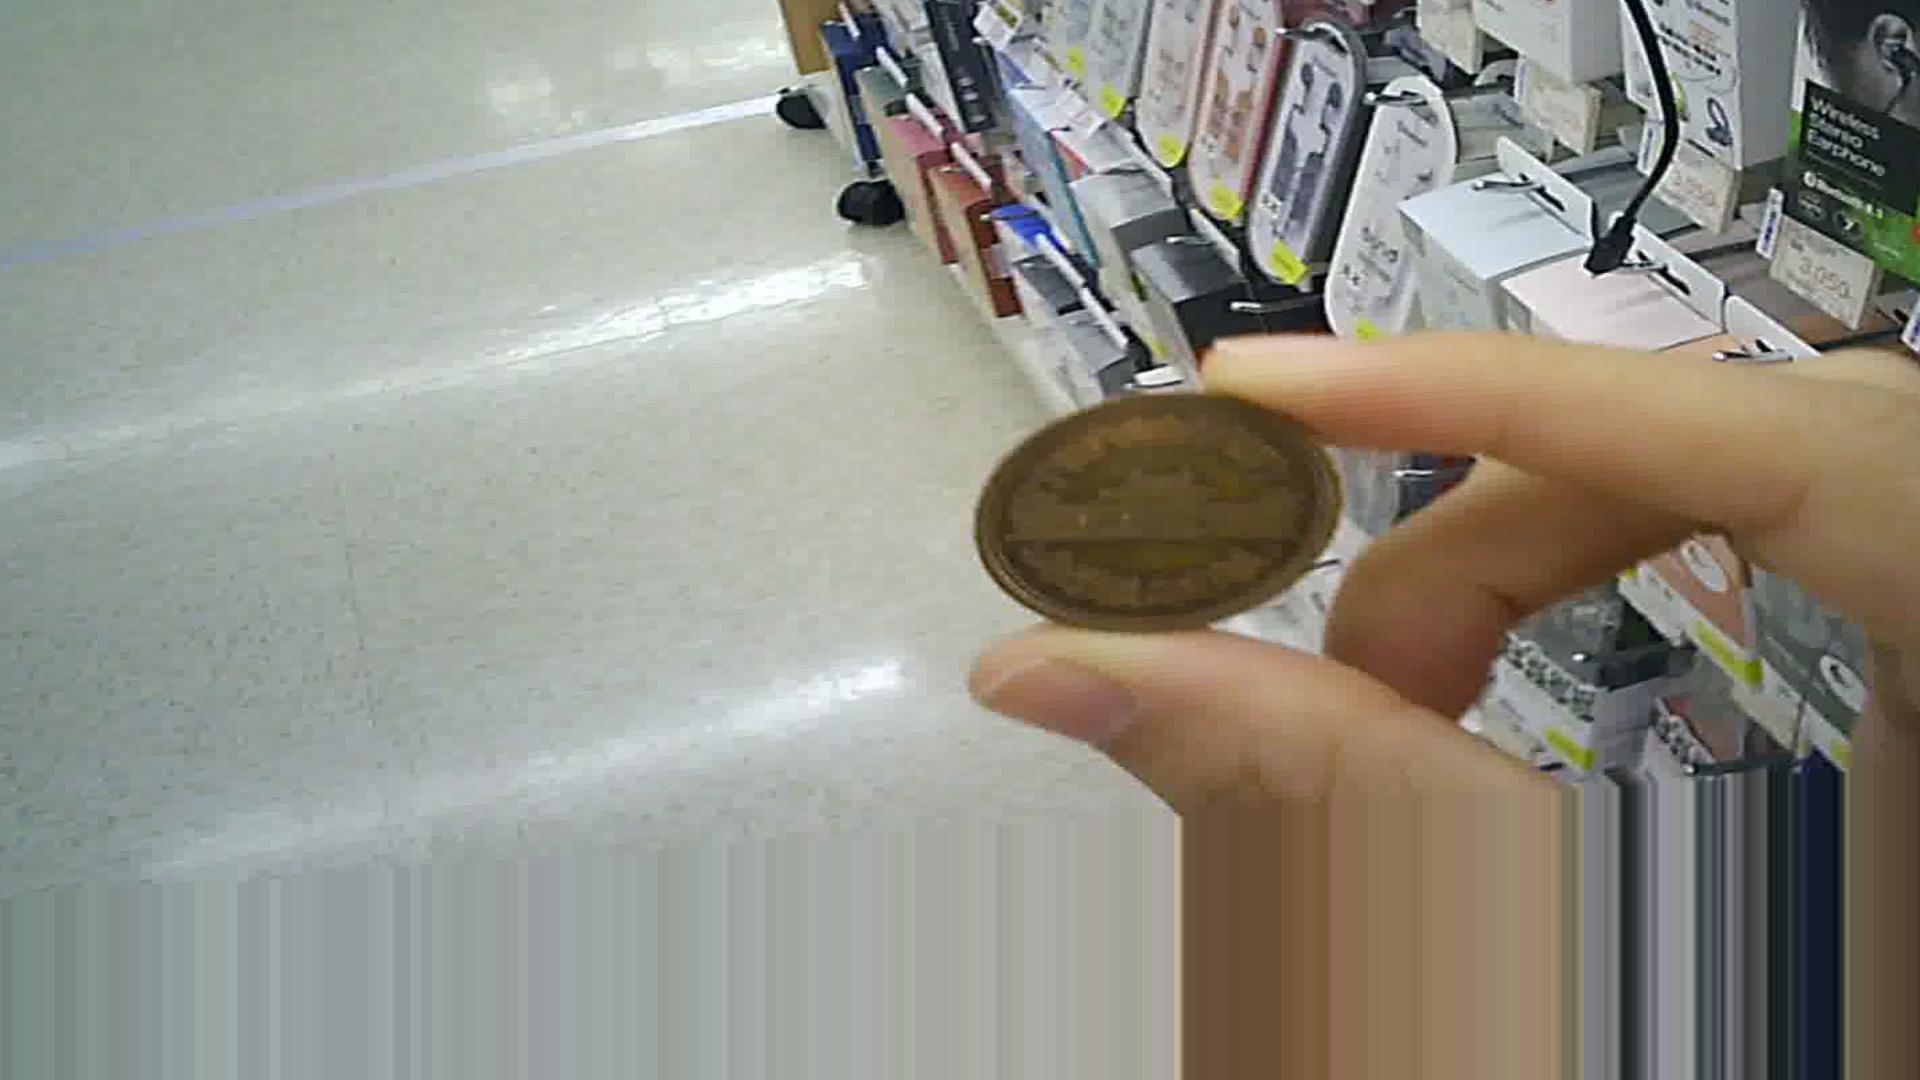10 Yen: (957, 368, 1345, 651)
